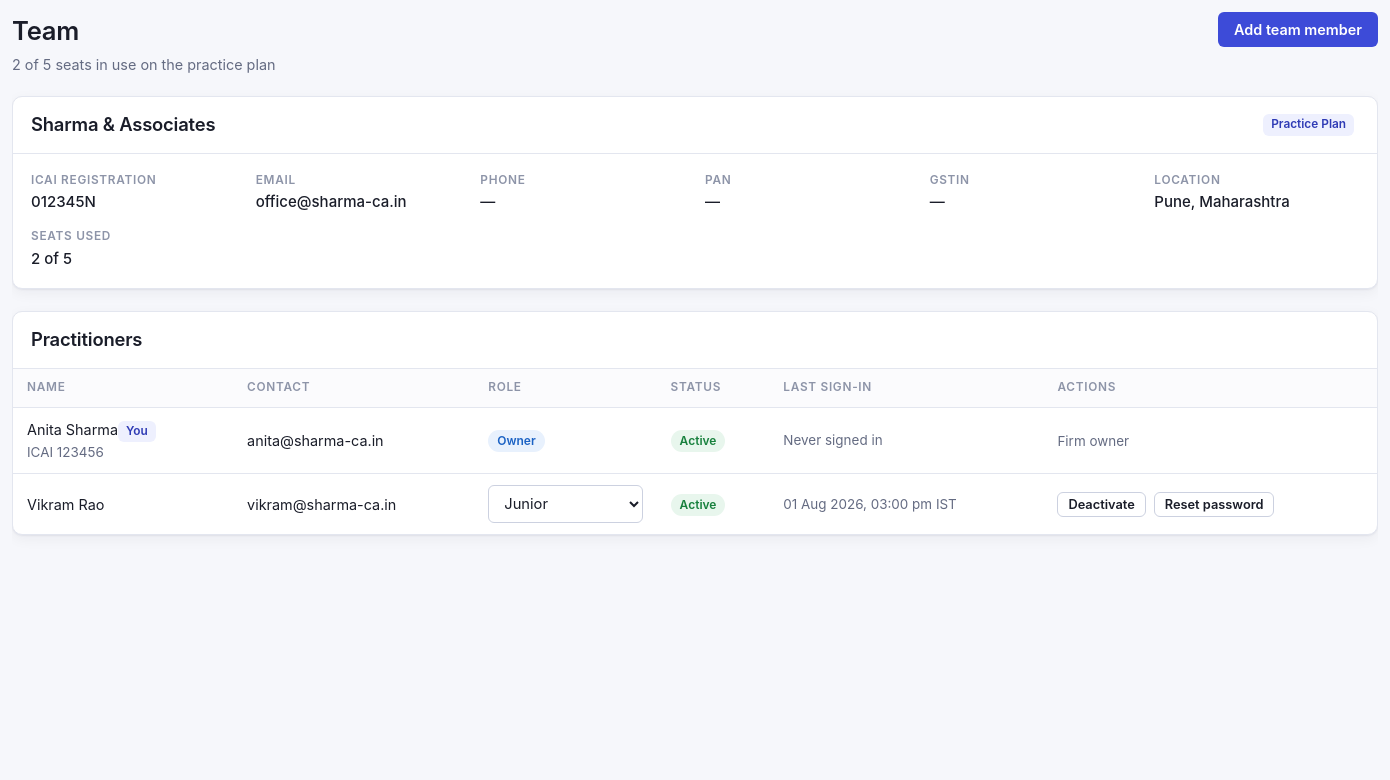
it: Changing a member › surfaces the server refusal rather than pretending it worked
Click the button "Deactivate" at (1102, 504), box [1057,492,1146,517]
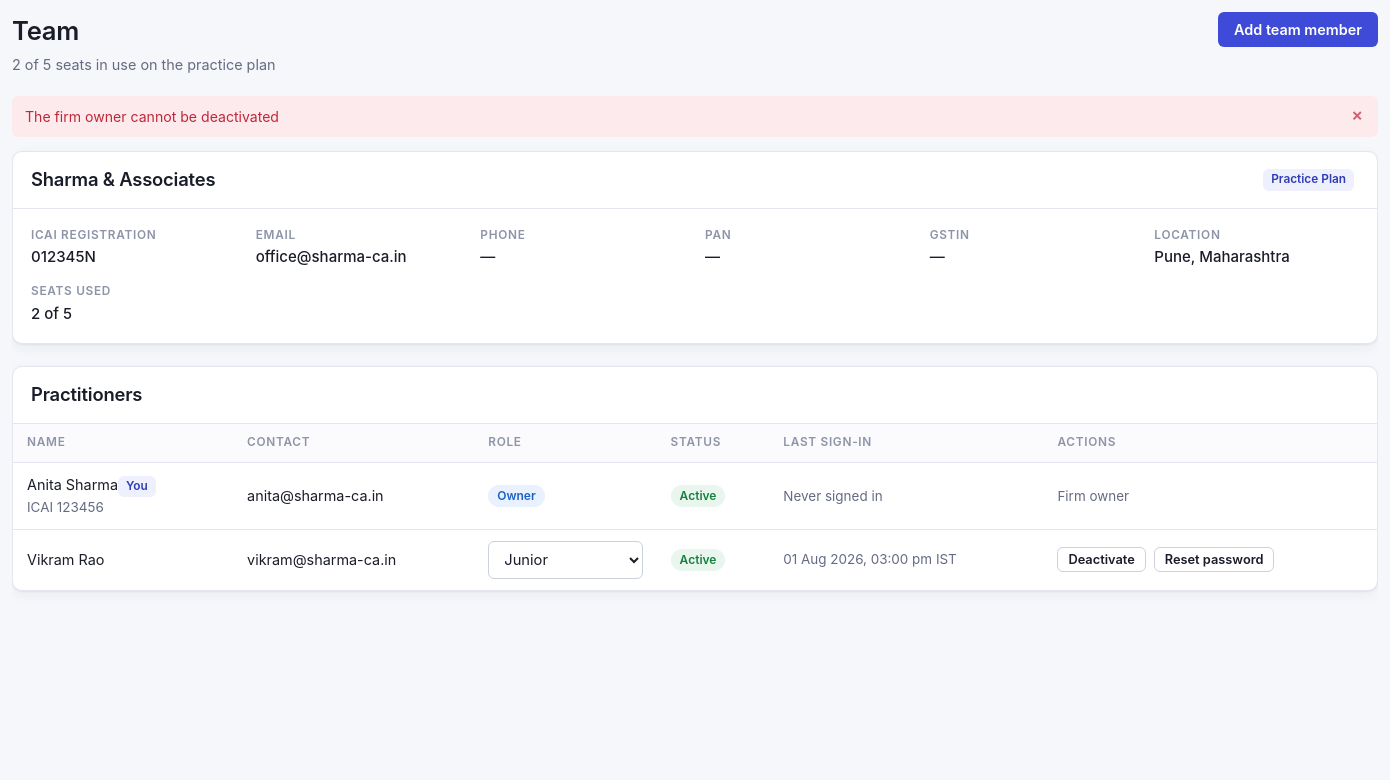
Result: the message shows "The firm owner cannot be deactivated" at [25,108,279,125]
